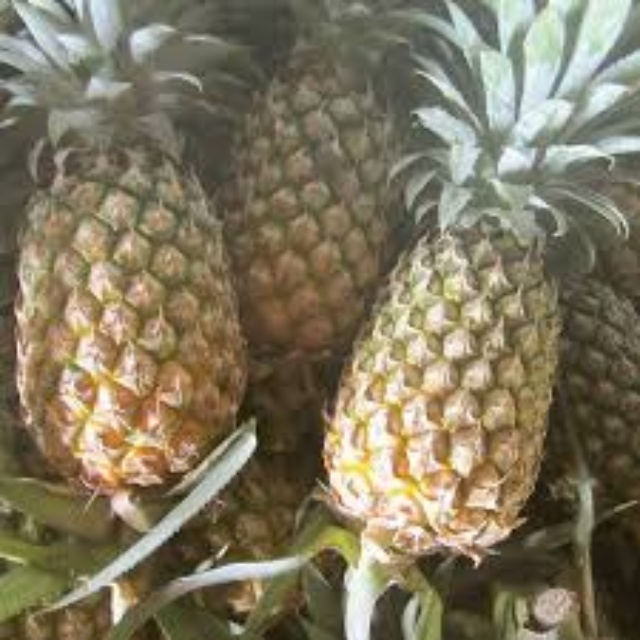thom: (2, 107, 253, 486), (318, 180, 562, 557), (210, 10, 418, 347)
